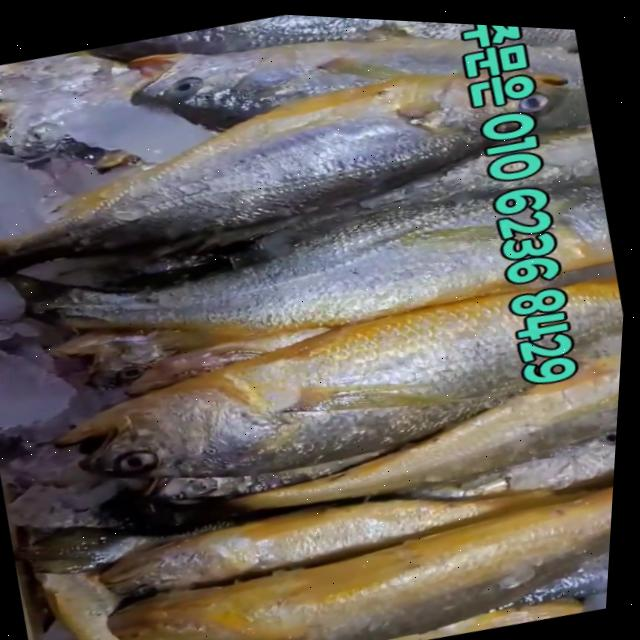Wet: (0, 16, 598, 313), (33, 246, 629, 529), (36, 146, 624, 396), (98, 443, 620, 640), (101, 445, 550, 623)
